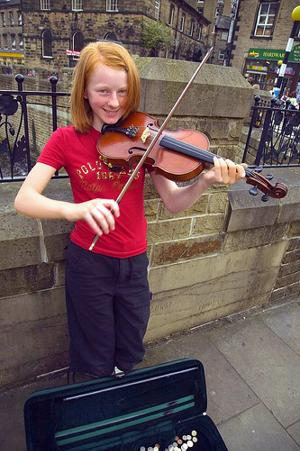person: (15, 42, 248, 383)
